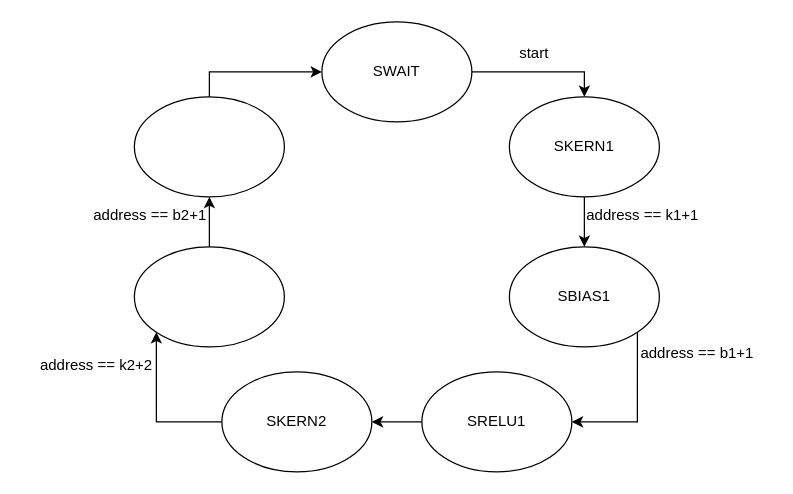
The diagram is 793 pixels wide and 494 high, and some of its shapes have lost their labels. Here are the shapes that lost their labels. From the top down, the centre of each, then its label:
the point at 208,146: SFIN
the point at 208,296: SBIAS2
